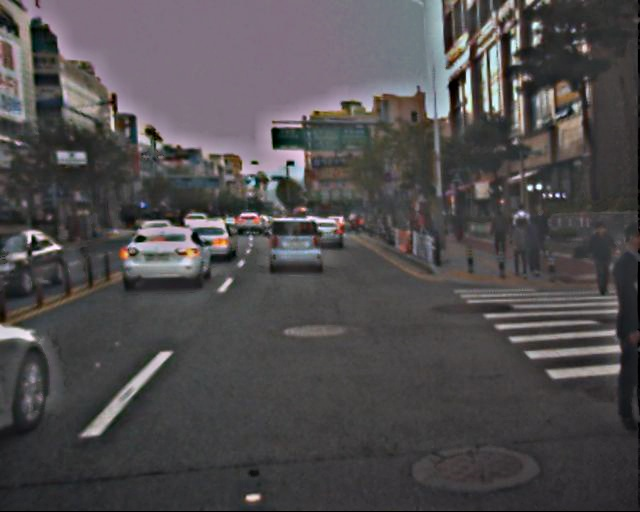person: (590, 221, 640, 429), (584, 222, 613, 293), (521, 216, 546, 276), (510, 217, 533, 273), (532, 201, 553, 251), (511, 205, 531, 254), (406, 210, 435, 238), (489, 209, 507, 253), (451, 207, 465, 242)
